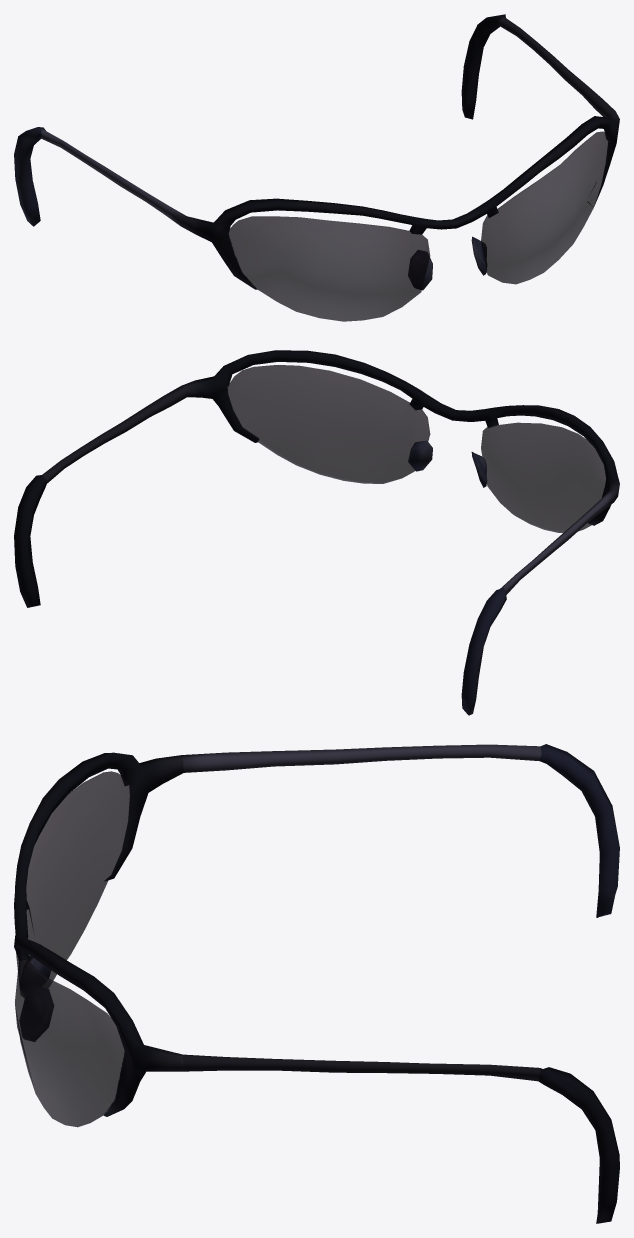
3 views of the same model, one above another, from view 1: azimuth 30°, elevation 25°; view 2: azimuth 150°, elevation 25°; view 3: azimuth 270°, elevation 25° (orthographic). The views are drawn at different scales.
Parts seen in each view (by area): view 1: Wolf3D_Glasses; view 2: Wolf3D_Glasses; view 3: Wolf3D_Glasses.
Boxes of the visible parts, x1=… form: Wolf3D_Glasses: x1=14, y1=14, x2=619, y2=321; Wolf3D_Glasses: x1=14, y1=350, x2=619, y2=715; Wolf3D_Glasses: x1=14, y1=744, x2=619, y2=1223.
Size of the model in its own units: 0.1674 by 0.0474 by 0.1297.
1 material, 1 textured.
